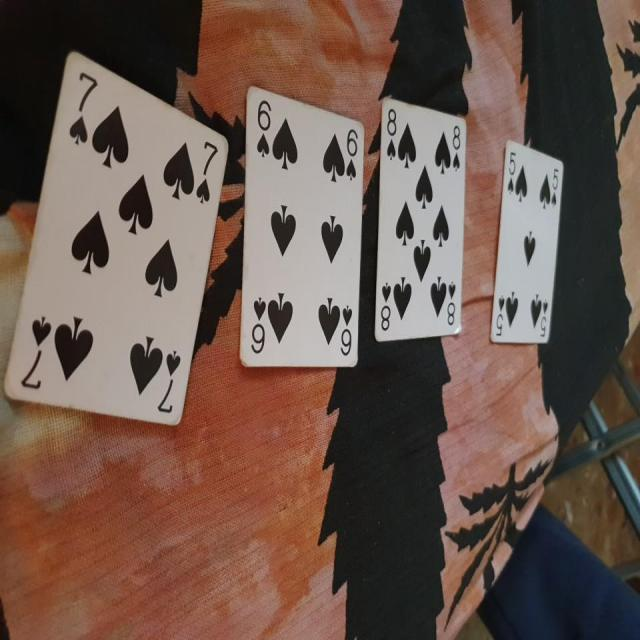5 Spades: (480, 150, 570, 350)
6 Spades: (232, 80, 372, 375)
7 Spades: (7, 46, 228, 442)
8 Spades: (373, 97, 467, 346)
